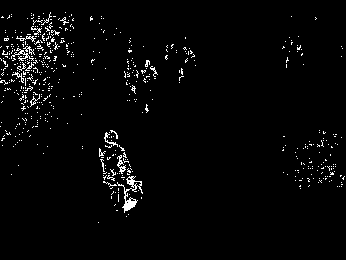person: (97, 130, 144, 213)
